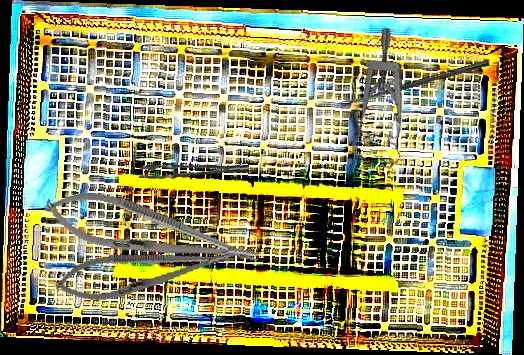Needle Holder: (39, 180, 265, 285), (52, 236, 238, 308)
Speculum: (324, 25, 450, 177)
Surgical Spoon: (339, 58, 489, 109)
Tissue Forceps: (138, 155, 250, 188)
